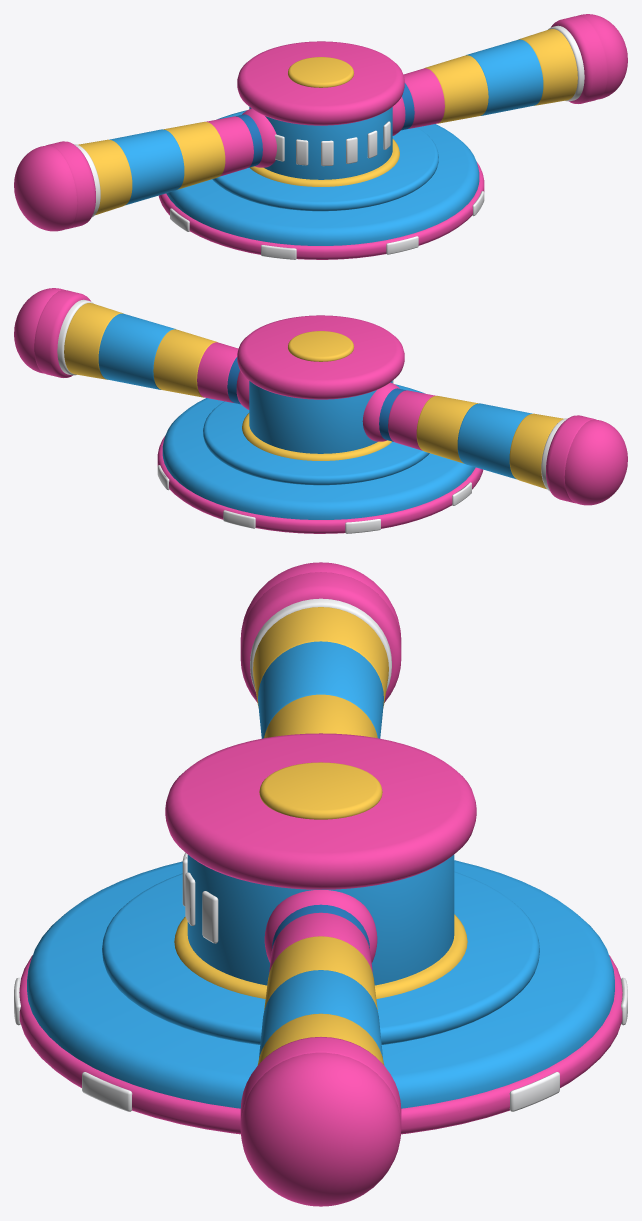
Rendered from sweeper_2arms.glb.
The picture shows the model from 3 angles, top to bottom: view 1: azimuth 30°, elevation 25°; view 2: azimuth 150°, elevation 25°; view 3: azimuth 270°, elevation 25°; orthographic projection. The views are drawn at different scales.
Visible parts, largest first — view 1: Sweeper_Base_visual, Sweeper_TopPad_visual, Sweeper_Base_TopPlate_visual, Sweeper_Center_visual, Arm_Left_CapTip_visual, Sweeper_Base_PinkRim_visual, Arm_Right_Blue_visual, Arm_Left_Blue_visual, Arm_Right_Yellow_visual, Arm_Right_Outer_visual, Arm_Left_Yellow_visual, Arm_Left_Outer_visual (+15 smaller); view 2: Sweeper_Base_visual, Sweeper_TopPad_visual, Sweeper_Base_TopPlate_visual, Sweeper_Center_visual, Arm_Left_CapTip_visual, Sweeper_Base_PinkRim_visual, Arm_Right_Blue_visual, Arm_Left_Blue_visual, Arm_Right_Yellow_visual, Arm_Right_Outer_visual, Arm_Left_Yellow_visual, Arm_Left_Outer_visual (+15 smaller); view 3: Sweeper_Base_visual, Sweeper_TopPad_visual, Sweeper_Base_TopPlate_visual, Arm_Right_CapTip_visual, Sweeper_Center_visual, Sweeper_Base_PinkRim_visual, Arm_Left_Blue_visual, Sweeper_TopButton_visual, Arm_Left_CapBody_visual, Arm_Right_Blue_visual, Arm_Left_Outer_visual, Sweeper_Center_LowerRing_visual (+10 smaller).
Boxes of the visible parts, x1=… form: Sweeper_Base_visual: x1=166, y1=110, x2=479, y2=245; Sweeper_TopPad_visual: x1=237, y1=41, x2=404, y2=125; Sweeper_Base_TopPlate_visual: x1=212, y1=127, x2=438, y2=211; Sweeper_Center_visual: x1=249, y1=107, x2=392, y2=179; Arm_Left_CapTip_visual: x1=14, y1=145, x2=77, y2=231; Sweeper_Base_PinkRim_visual: x1=158, y1=162, x2=484, y2=259; Arm_Right_Blue_visual: x1=466, y1=39, x2=543, y2=115; Arm_Left_Blue_visual: x1=109, y1=129, x2=184, y2=205; Arm_Right_Yellow_visual: x1=424, y1=55, x2=488, y2=123; Arm_Right_Outer_visual: x1=518, y1=29, x2=577, y2=105; Arm_Left_Yellow_visual: x1=163, y1=121, x2=225, y2=189; Arm_Left_Outer_visual: x1=78, y1=139, x2=132, y2=215; Sweeper_Base_visual: x1=162, y1=384, x2=475, y2=519; Sweeper_TopPad_visual: x1=237, y1=315, x2=404, y2=399; Sweeper_Base_TopPlate_visual: x1=203, y1=401, x2=429, y2=485; Sweeper_Center_visual: x1=249, y1=381, x2=392, y2=453; Arm_Left_CapTip_visual: x1=564, y1=419, x2=627, y2=505; Sweeper_Base_PinkRim_visual: x1=157, y1=436, x2=483, y2=533; Arm_Right_Blue_visual: x1=98, y1=313, x2=175, y2=389; Arm_Left_Blue_visual: x1=457, y1=403, x2=532, y2=479; Arm_Right_Yellow_visual: x1=153, y1=329, x2=217, y2=397; Arm_Right_Outer_visual: x1=64, y1=303, x2=123, y2=379; Arm_Left_Yellow_visual: x1=416, y1=395, x2=478, y2=463; Arm_Left_Outer_visual: x1=509, y1=413, x2=563, y2=489; Sweeper_Base_visual: x1=27, y1=860, x2=614, y2=1108; Sweeper_TopPad_visual: x1=165, y1=733, x2=476, y2=889; Sweeper_Base_TopPlate_visual: x1=102, y1=871, x2=539, y2=1044; Arm_Right_CapTip_visual: x1=240, y1=1052, x2=401, y2=1206; Sweeper_Center_visual: x1=187, y1=854, x2=454, y2=985; Sweeper_Base_PinkRim_visual: x1=19, y1=955, x2=622, y2=1134; Arm_Left_Blue_visual: x1=258, y1=641, x2=383, y2=738; Sweeper_TopButton_visual: x1=259, y1=762, x2=382, y2=819; Arm_Left_CapBody_visual: x1=240, y1=572, x2=401, y2=702; Arm_Right_Blue_visual: x1=259, y1=970, x2=382, y2=1057; Arm_Left_Outer_visual: x1=253, y1=607, x2=388, y2=707; Sweeper_Center_LowerRing_visual: x1=174, y1=914, x2=467, y2=998.
Size of what is drawn, in the model's own units: 7.52 by 1.48 by 3.59.
